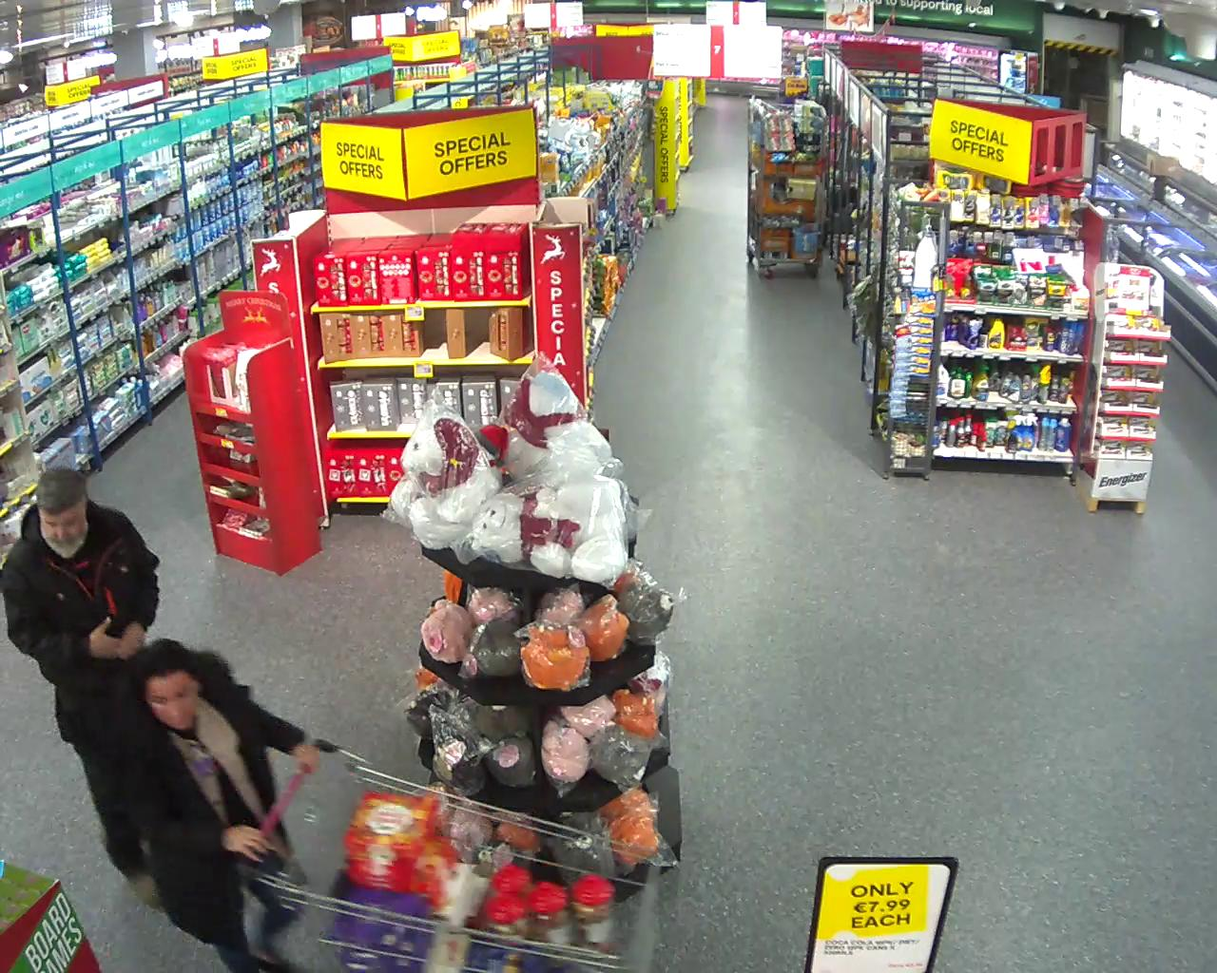filled-trolly: (232, 735, 657, 973)
person: (118, 638, 316, 973)
person-with-filled-basket-trolly: (118, 638, 657, 973)
